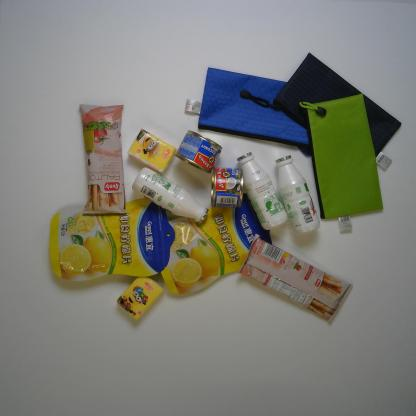Canned Food: (175, 130, 223, 173), (209, 166, 244, 209)
Dessert: (236, 233, 352, 328), (76, 101, 130, 220)
Dried Fruit: (159, 196, 274, 297), (49, 202, 177, 284)
Milk: (132, 168, 210, 223), (236, 151, 286, 231), (274, 155, 320, 236)
Stationery: (239, 51, 403, 170), (181, 65, 316, 159), (295, 93, 384, 235)
Tissue: (126, 128, 176, 174), (117, 274, 163, 323)
